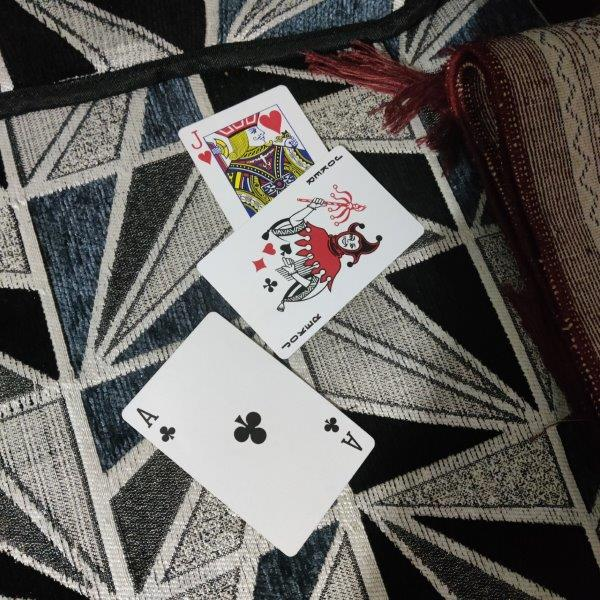Ace of Clubs: (121, 310, 377, 558)
Jack of Hearts: (177, 85, 332, 234)
Joker: (196, 145, 425, 361)
